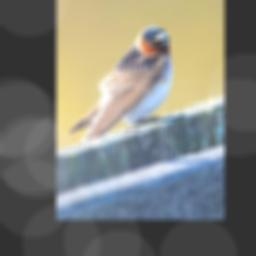Swallow: (67, 26, 174, 147)
